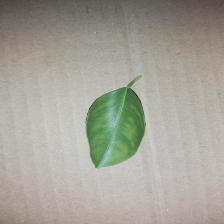greening: (76, 70, 153, 171)
